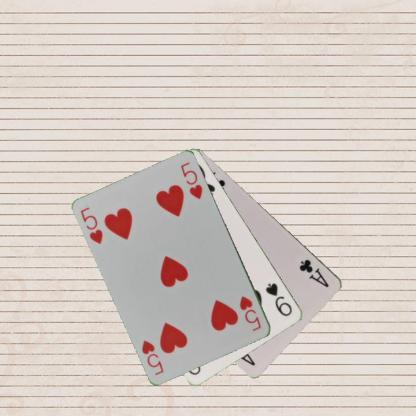5h: (78, 204, 104, 245), (237, 293, 263, 333)
9s: (263, 280, 294, 318)
Ac: (297, 256, 330, 289)
